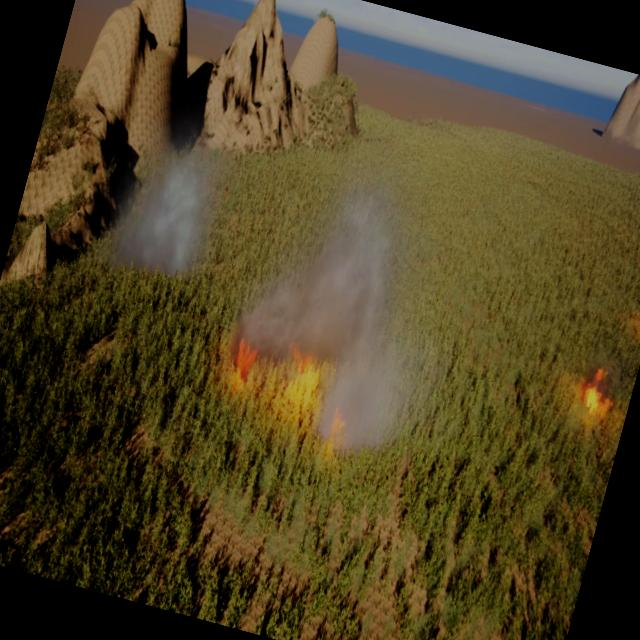fire: (276, 338, 336, 416), (225, 326, 268, 384), (578, 358, 618, 414), (325, 407, 352, 452)
smoke: (212, 158, 490, 479), (91, 117, 234, 290)
